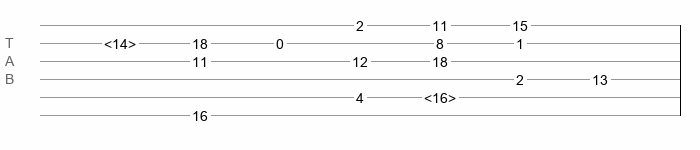0: (276, 36, 284, 46)
1: (516, 36, 524, 46)
11: (192, 54, 208, 64), (432, 18, 448, 28)
12: (352, 54, 368, 64)
13: (592, 72, 608, 82)
15: (512, 18, 528, 28)
16: (192, 108, 208, 118)
18: (192, 36, 208, 46), (432, 54, 448, 64)
2: (356, 18, 364, 28), (516, 72, 524, 82)
4: (356, 90, 364, 100)
8: (436, 36, 444, 46)
harmonic: (104, 36, 136, 46), (424, 90, 456, 100)
